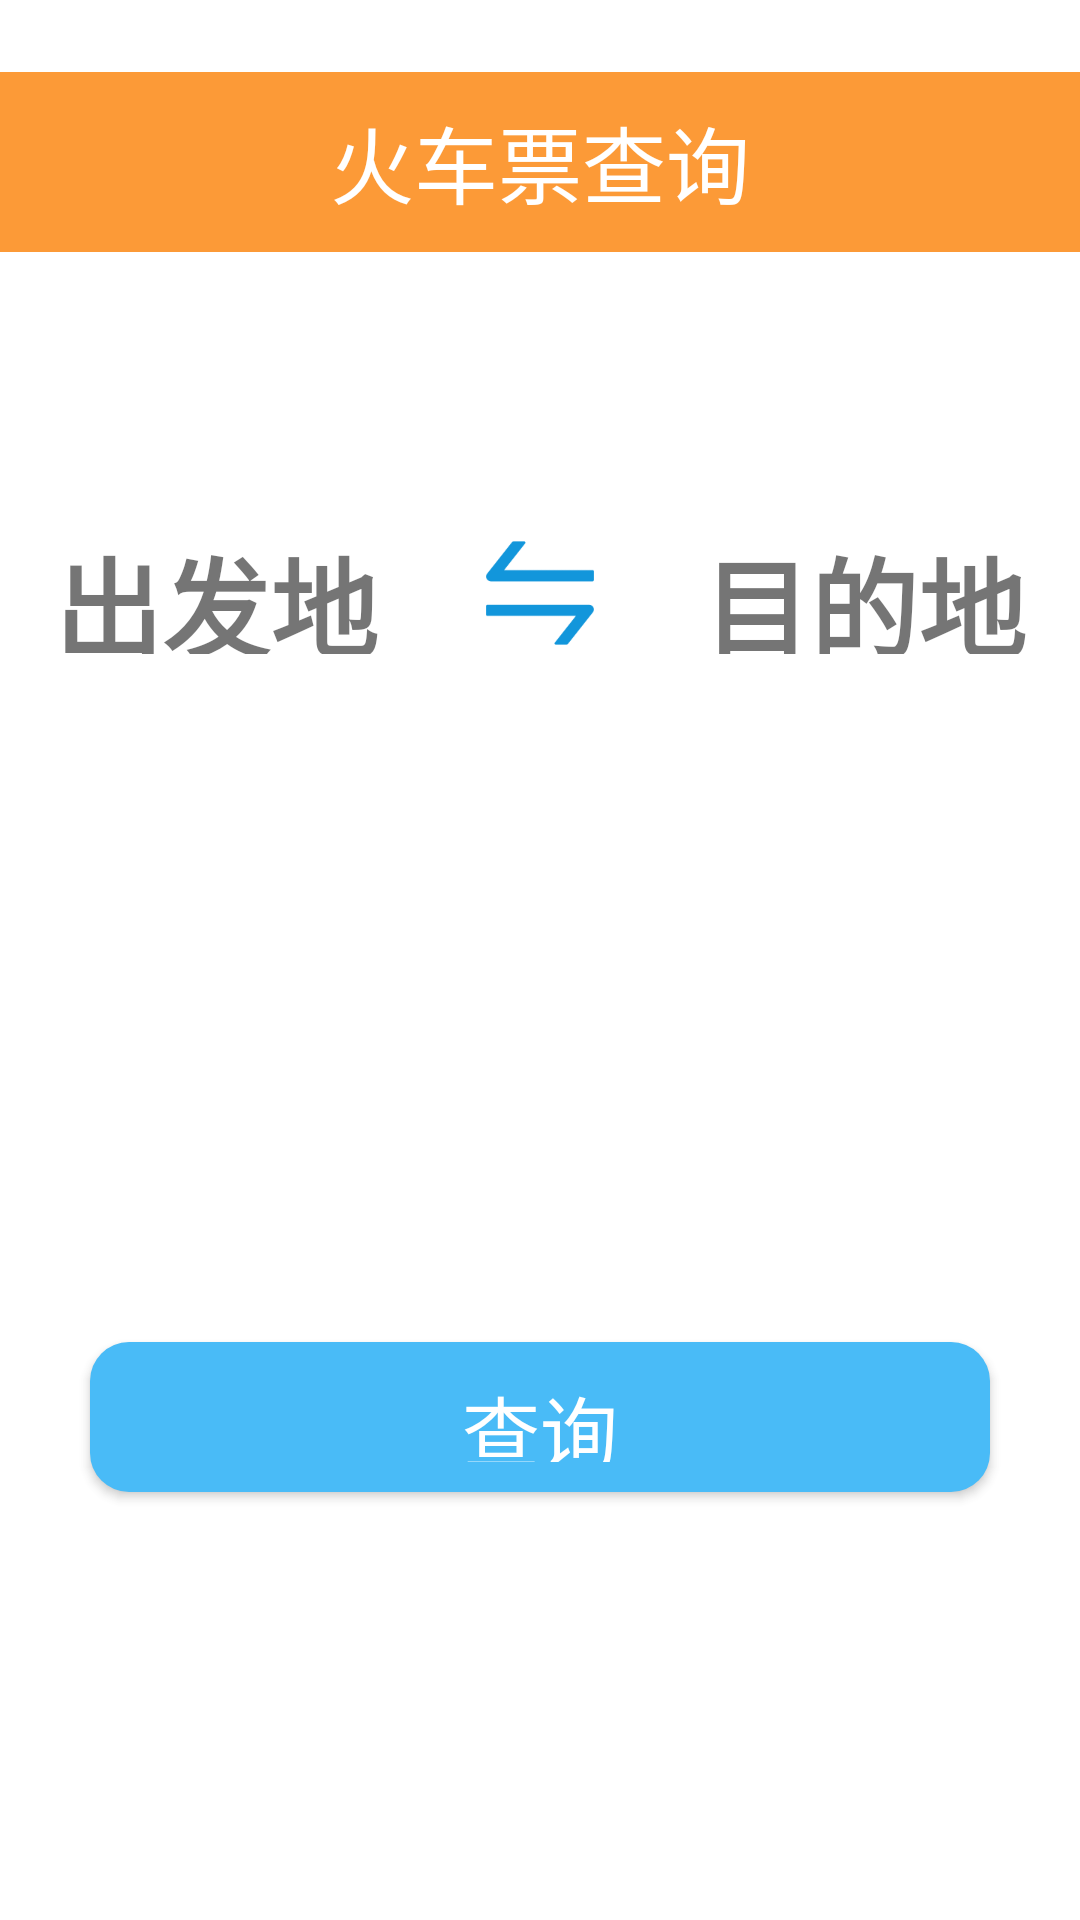

Named icons in this screenshot (1080x1920) and their bounding boxes, rect(x1, y1, x2, y2):
swap: rect(486, 541, 594, 645)
